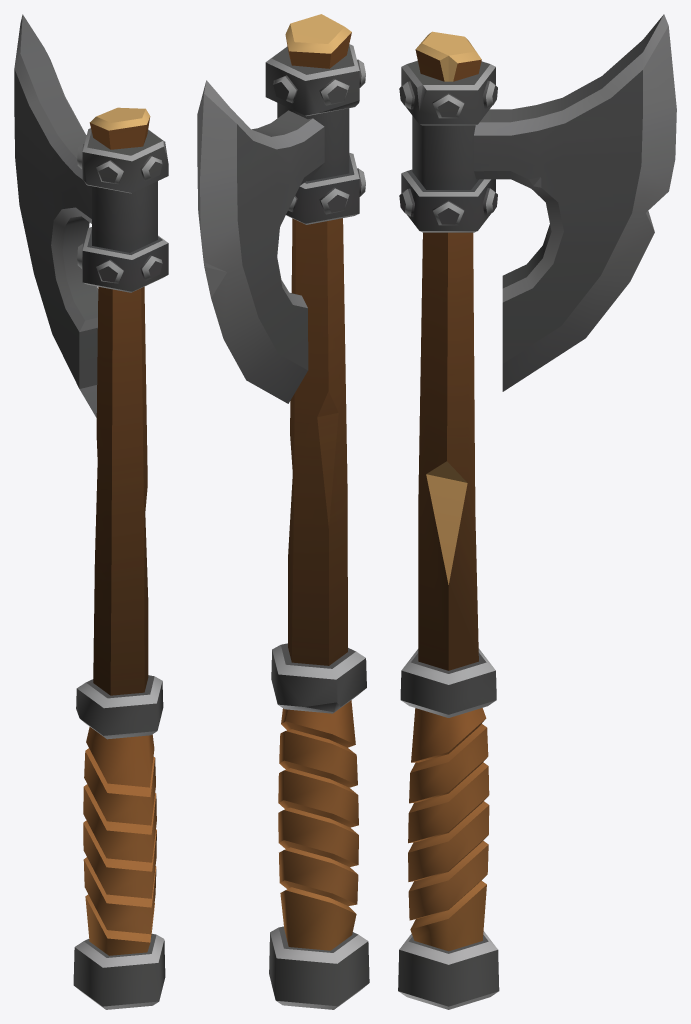
File: BattleAxe_3_1_A.glb
3 renders of one model, left to right at view 1: azimuth 30°, elevation 25°; view 2: azimuth 150°, elevation 25°; view 3: azimuth 270°, elevation 25°, orthographic. The views are drawn at different scales.
Parts seen in each view (by area): view 1: BattleAxe_3_1_A; view 2: BattleAxe_3_1_A; view 3: BattleAxe_3_1_A.
Boxes of the visible parts, x1=… form: BattleAxe_3_1_A: x1=14, y1=14, x2=168, y2=1009; BattleAxe_3_1_A: x1=197, y1=14, x2=369, y2=1009; BattleAxe_3_1_A: x1=398, y1=14, x2=676, y2=1009.
Size of the model in its own units: 0.1247 by 1.31 by 0.3375.
2 materials, 2 textured.
